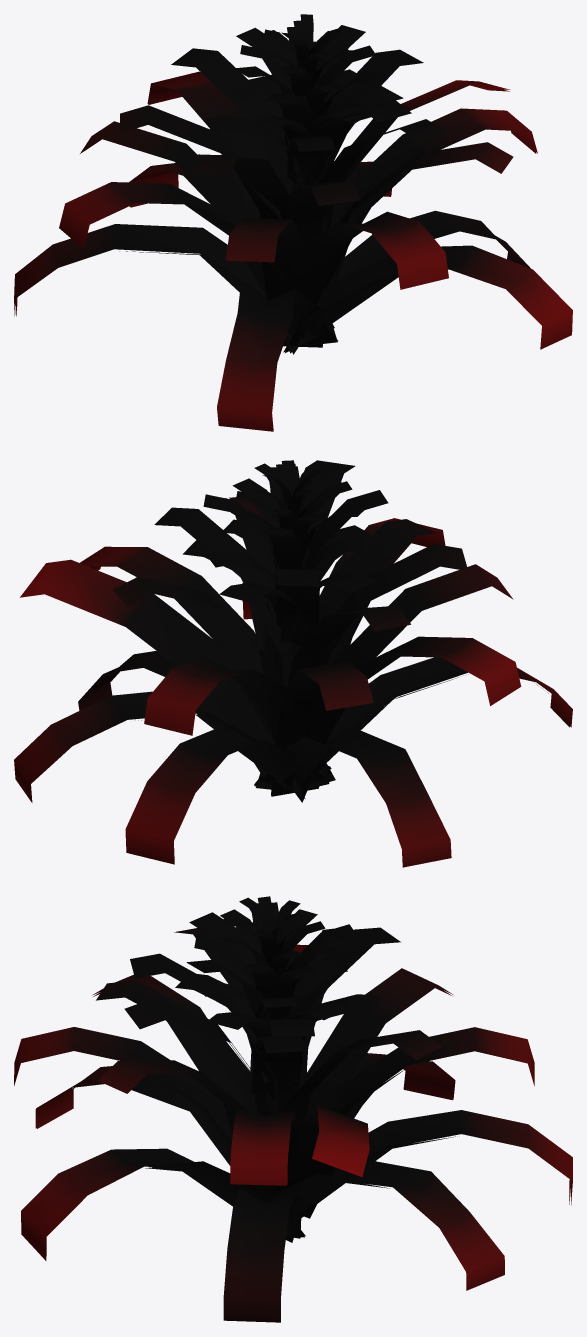
File: TropicalShrub01_AFS_high.FBX
3 renders of one model, top to bottom at view 1: azimuth 30°, elevation 25°; view 2: azimuth 150°, elevation 25°; view 3: azimuth 270°, elevation 25°, orthographic. The views are drawn at different scales.
Visible parts, largest first — view 1: TropicalShrub01_AFS_high; view 2: TropicalShrub01_AFS_high; view 3: TropicalShrub01_AFS_high.
Part boxes in pixels (x1,y1,x2,y2): TropicalShrub01_AFS_high: [14, 14, 572, 431]; TropicalShrub01_AFS_high: [14, 460, 572, 867]; TropicalShrub01_AFS_high: [14, 896, 572, 1322].
Size of the model in its own units: 0.6217 by 0.4207 by 0.6464.
